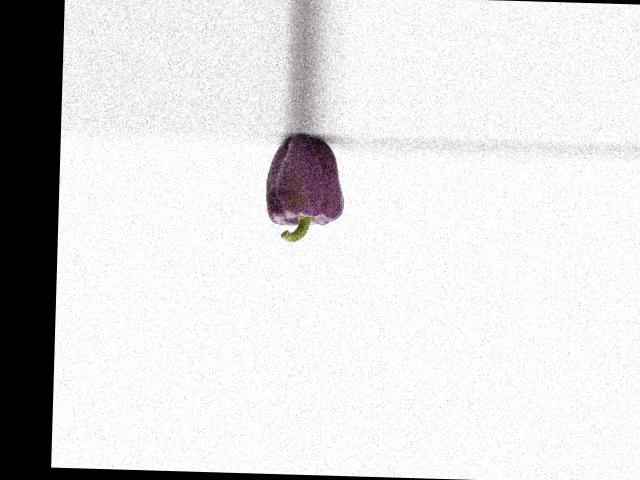bell_pepper: (256, 135, 351, 241)
